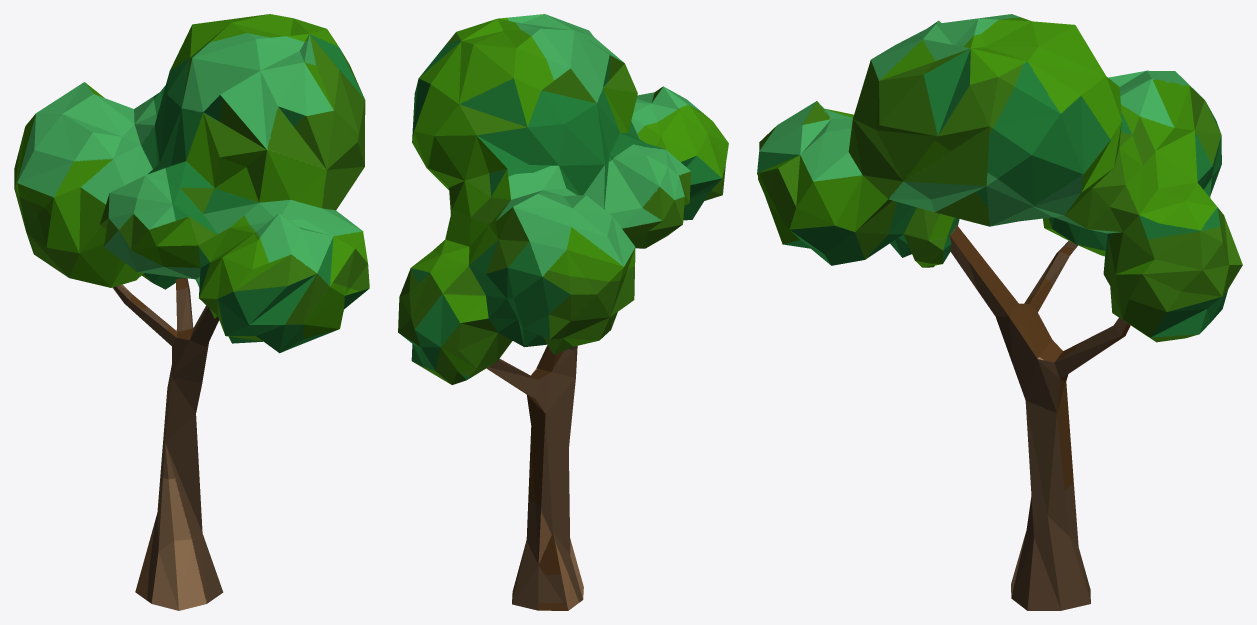
Rendered from tree3.glb.
3 views of the same model, side by side, from view 1: azimuth 30°, elevation 25°; view 2: azimuth 150°, elevation 25°; view 3: azimuth 270°, elevation 25° (orthographic). The views are drawn at different scales.
Parts seen in each view (by area): view 1: _3_tree; view 2: _3_tree; view 3: _3_tree.
Part boxes in pixels (box(x1,y1,x2,y2)): _3_tree: box(14, 14, 369, 610); _3_tree: box(398, 14, 728, 610); _3_tree: box(757, 14, 1242, 610).
Size of the model in its own units: 0.7953 by 1.58 by 1.17.
1 material, 1 textured.
